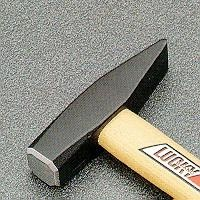hammer: (27, 38, 200, 188)
